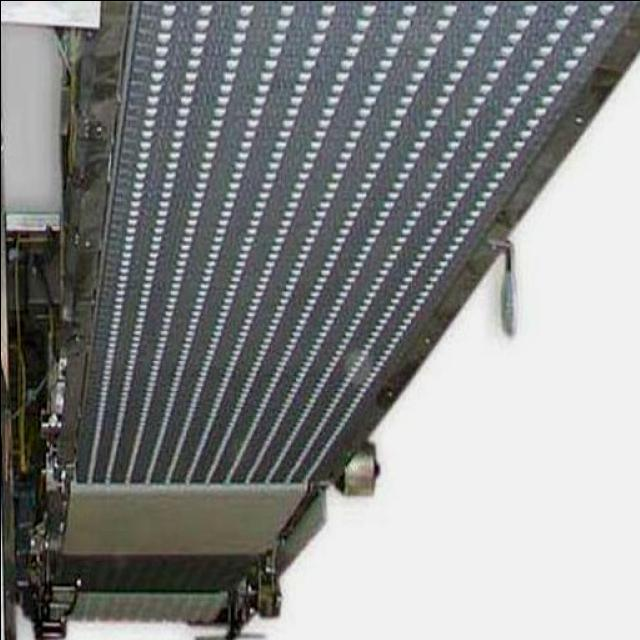conveyor: (49, 0, 640, 628)
